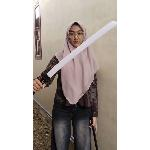Pedang: (37, 20, 117, 92)
